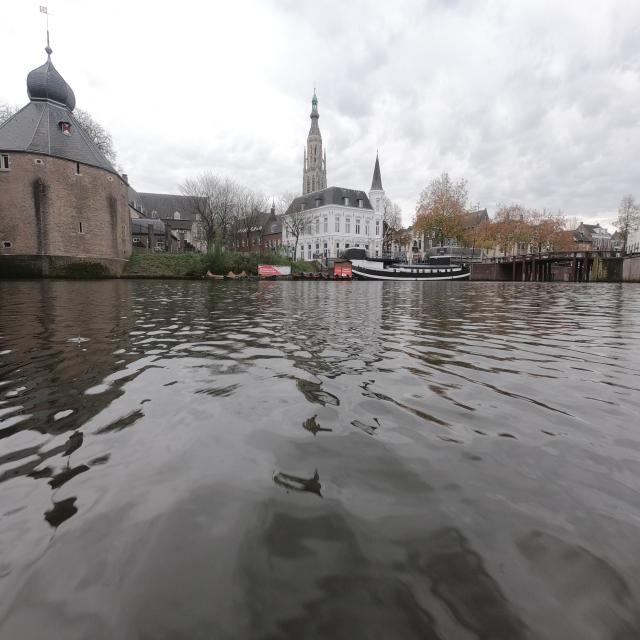boat: (354, 260, 470, 278)
grass: (123, 252, 290, 277)
sky: (6, 2, 638, 236)
wall: (2, 42, 128, 274), (596, 254, 638, 280), (470, 262, 512, 281), (624, 254, 638, 280)
water: (4, 290, 638, 634)
